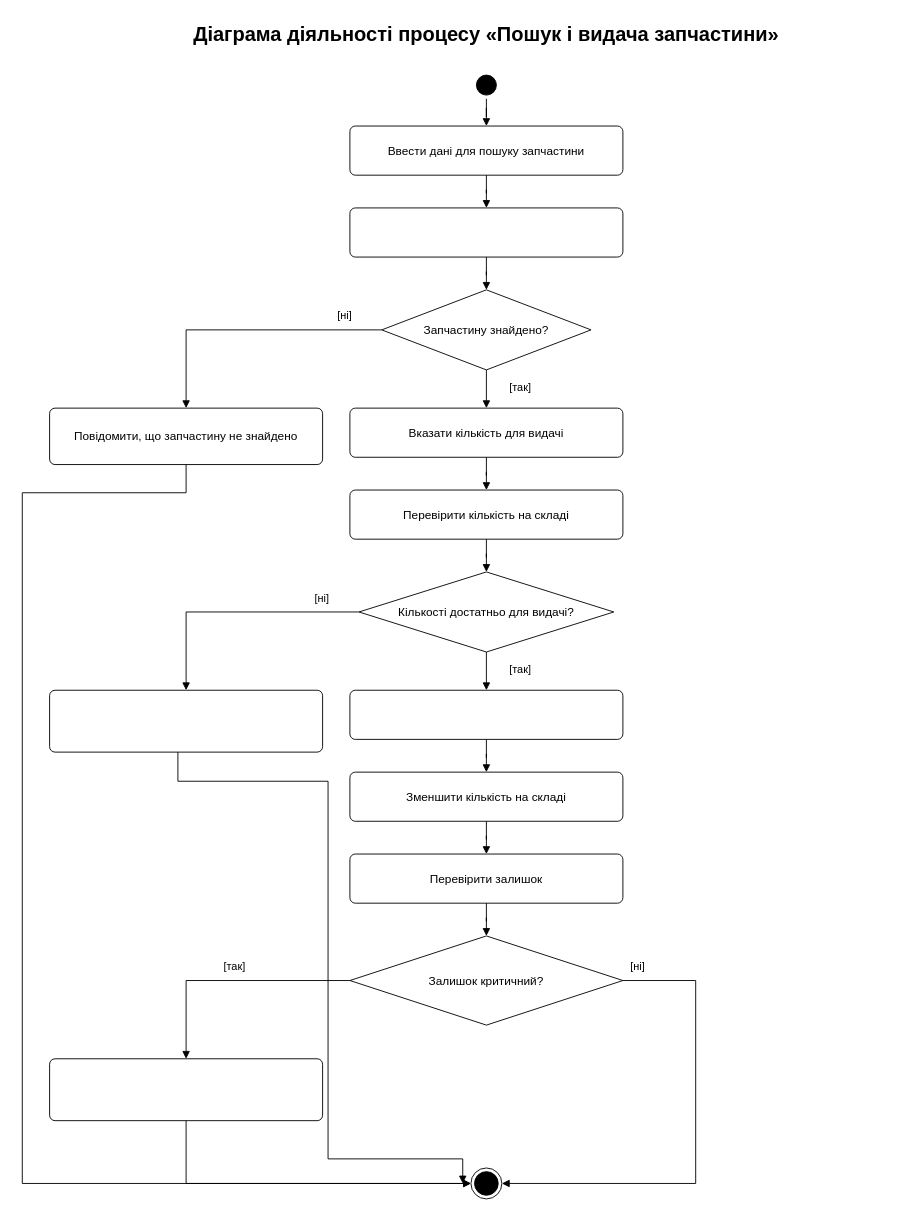
The diagram is 912 pixels wide and 1215 high, and some of its shapes have lost their labels. Here are the shapes that lost their labels. From the top down, the centre of each, then its label:
At [486,232]: "Знайти запчастину".
At [186,720]: "Повідомити про недостатню кількість".
At [486,714]: "Видати запчастину".
At [186,1089]: "Повідомити менеджера про критичний залишок".
